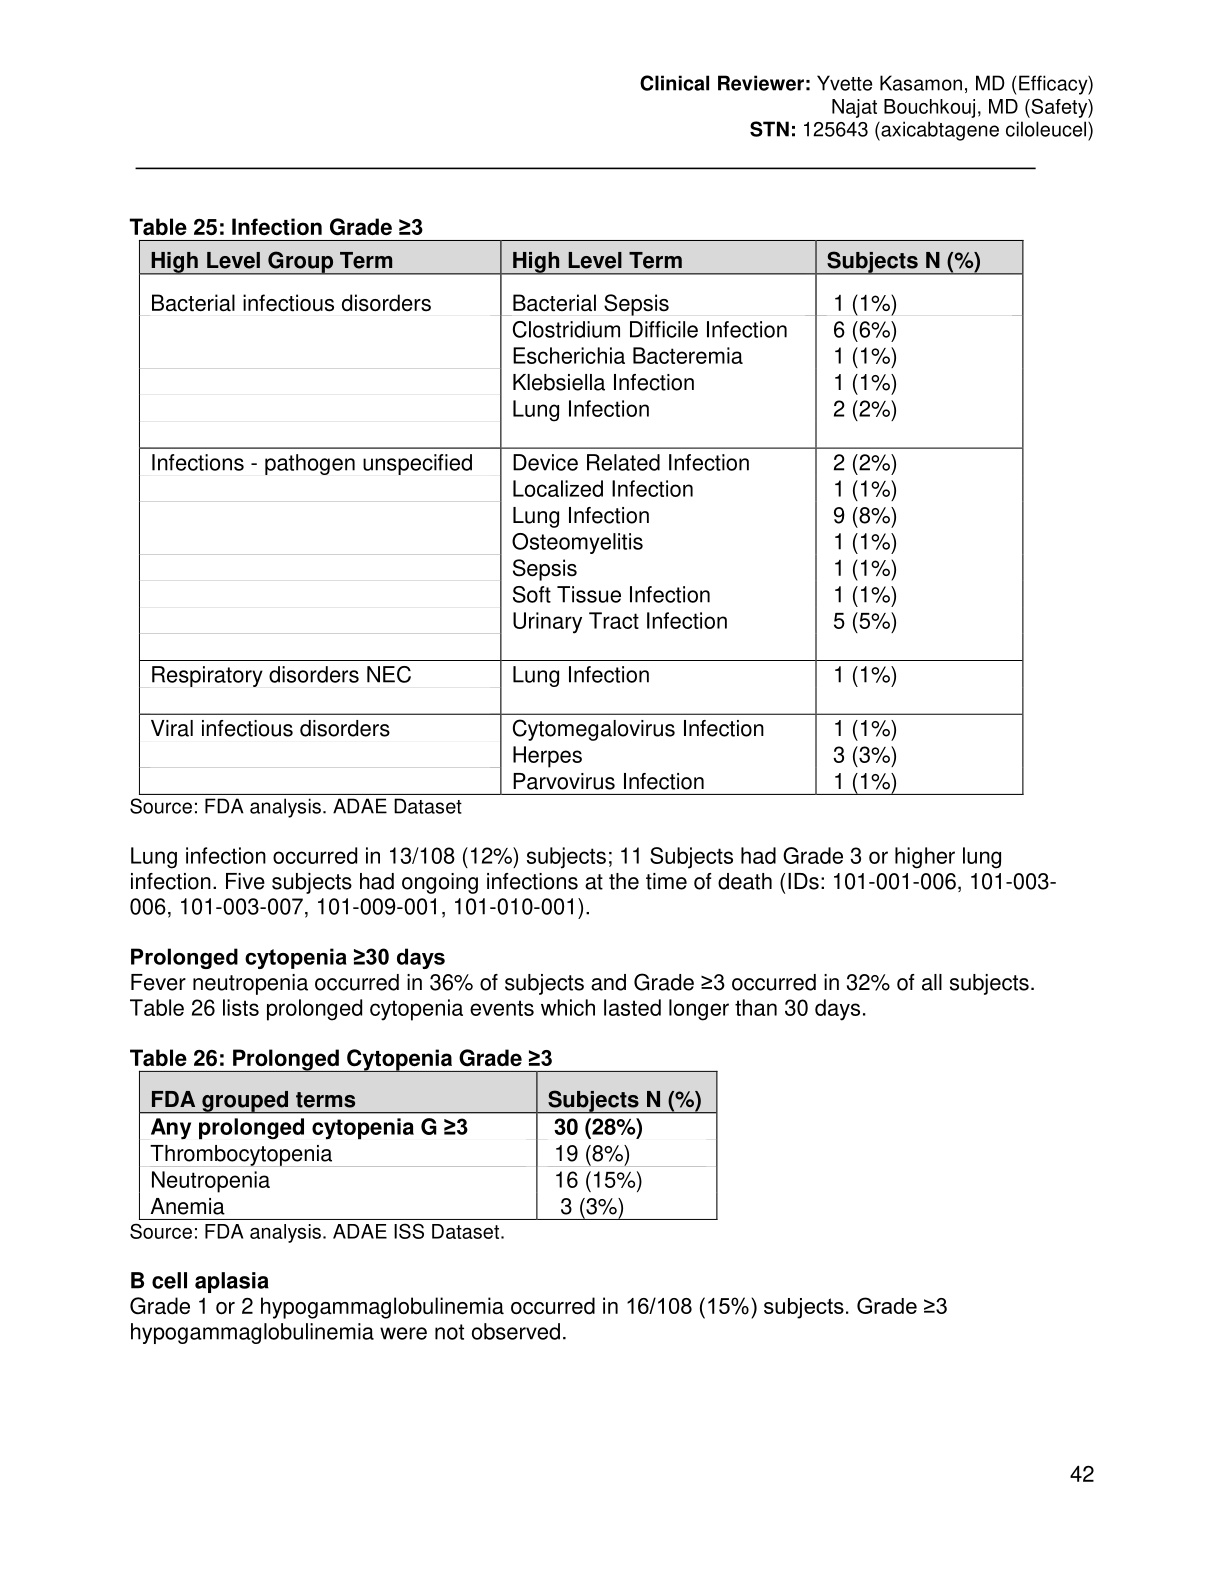full_lined: (138, 239, 1025, 797), (138, 1070, 717, 1220)
